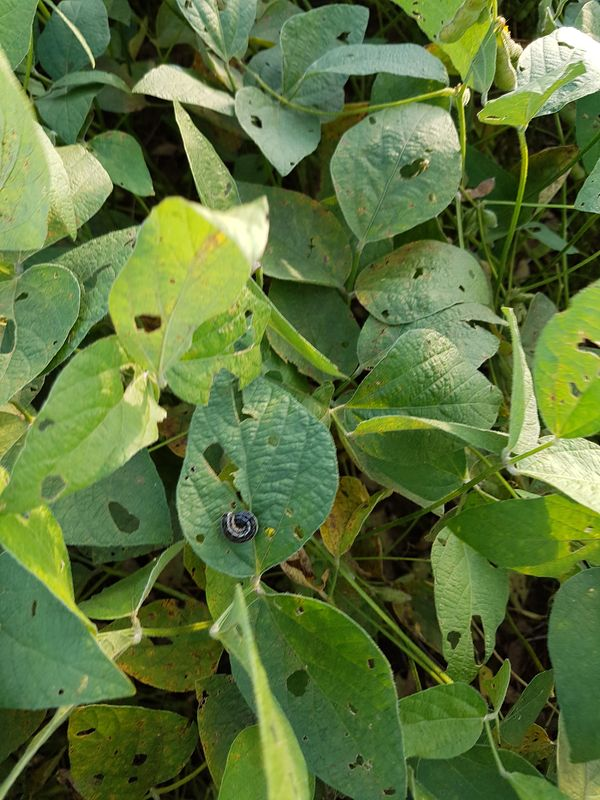Spodoptera_albula: (211, 498, 269, 554)
